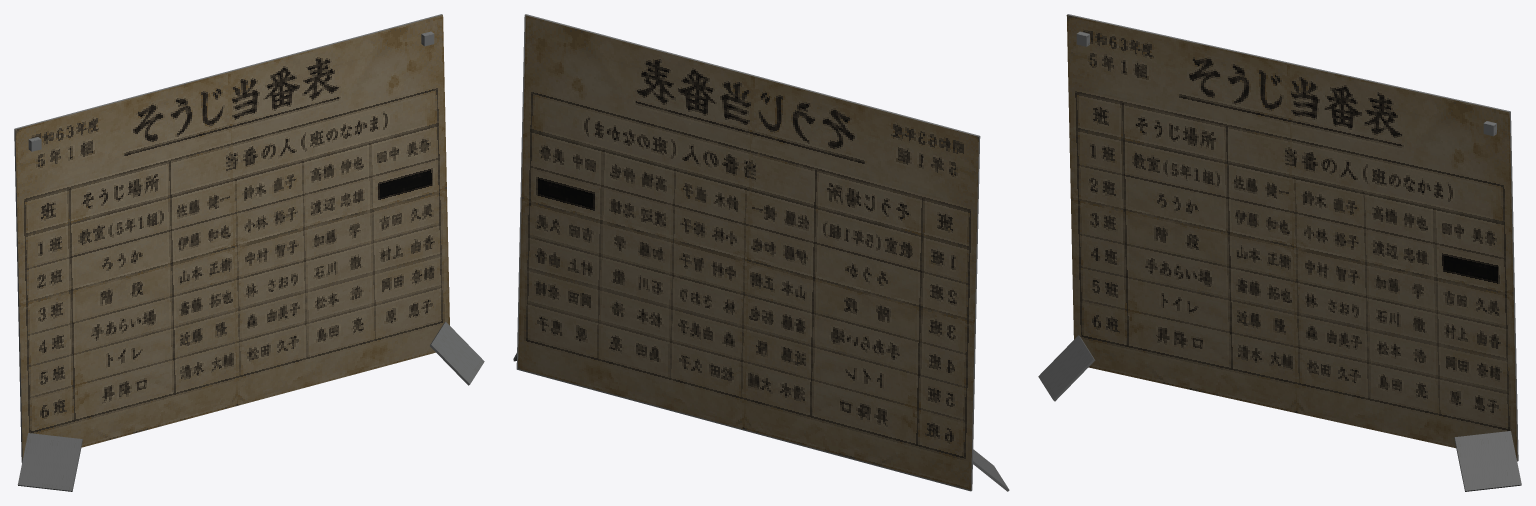
Rendered from prop_poster-touban-4.glb.
3 renders of one model, left to right at view 1: azimuth 30°, elevation 25°; view 2: azimuth 150°, elevation 25°; view 3: azimuth 330°, elevation 25°, orthographic. The views are drawn at different scales.
Visible parts, largest first — view 1: prop_poster-touban-4; view 2: prop_poster-touban-4; view 3: prop_poster-touban-4.
Boxes of the visible parts, x1=… form: prop_poster-touban-4: x1=14, y1=14, x2=484, y2=491; prop_poster-touban-4: x1=513, y1=14, x2=1009, y2=491; prop_poster-touban-4: x1=1038, y1=14, x2=1521, y2=491.
Size of the model in its own units: 0.6707 by 0.4848 by 0.0897.
Materials: 2 (2 with a texture image).
